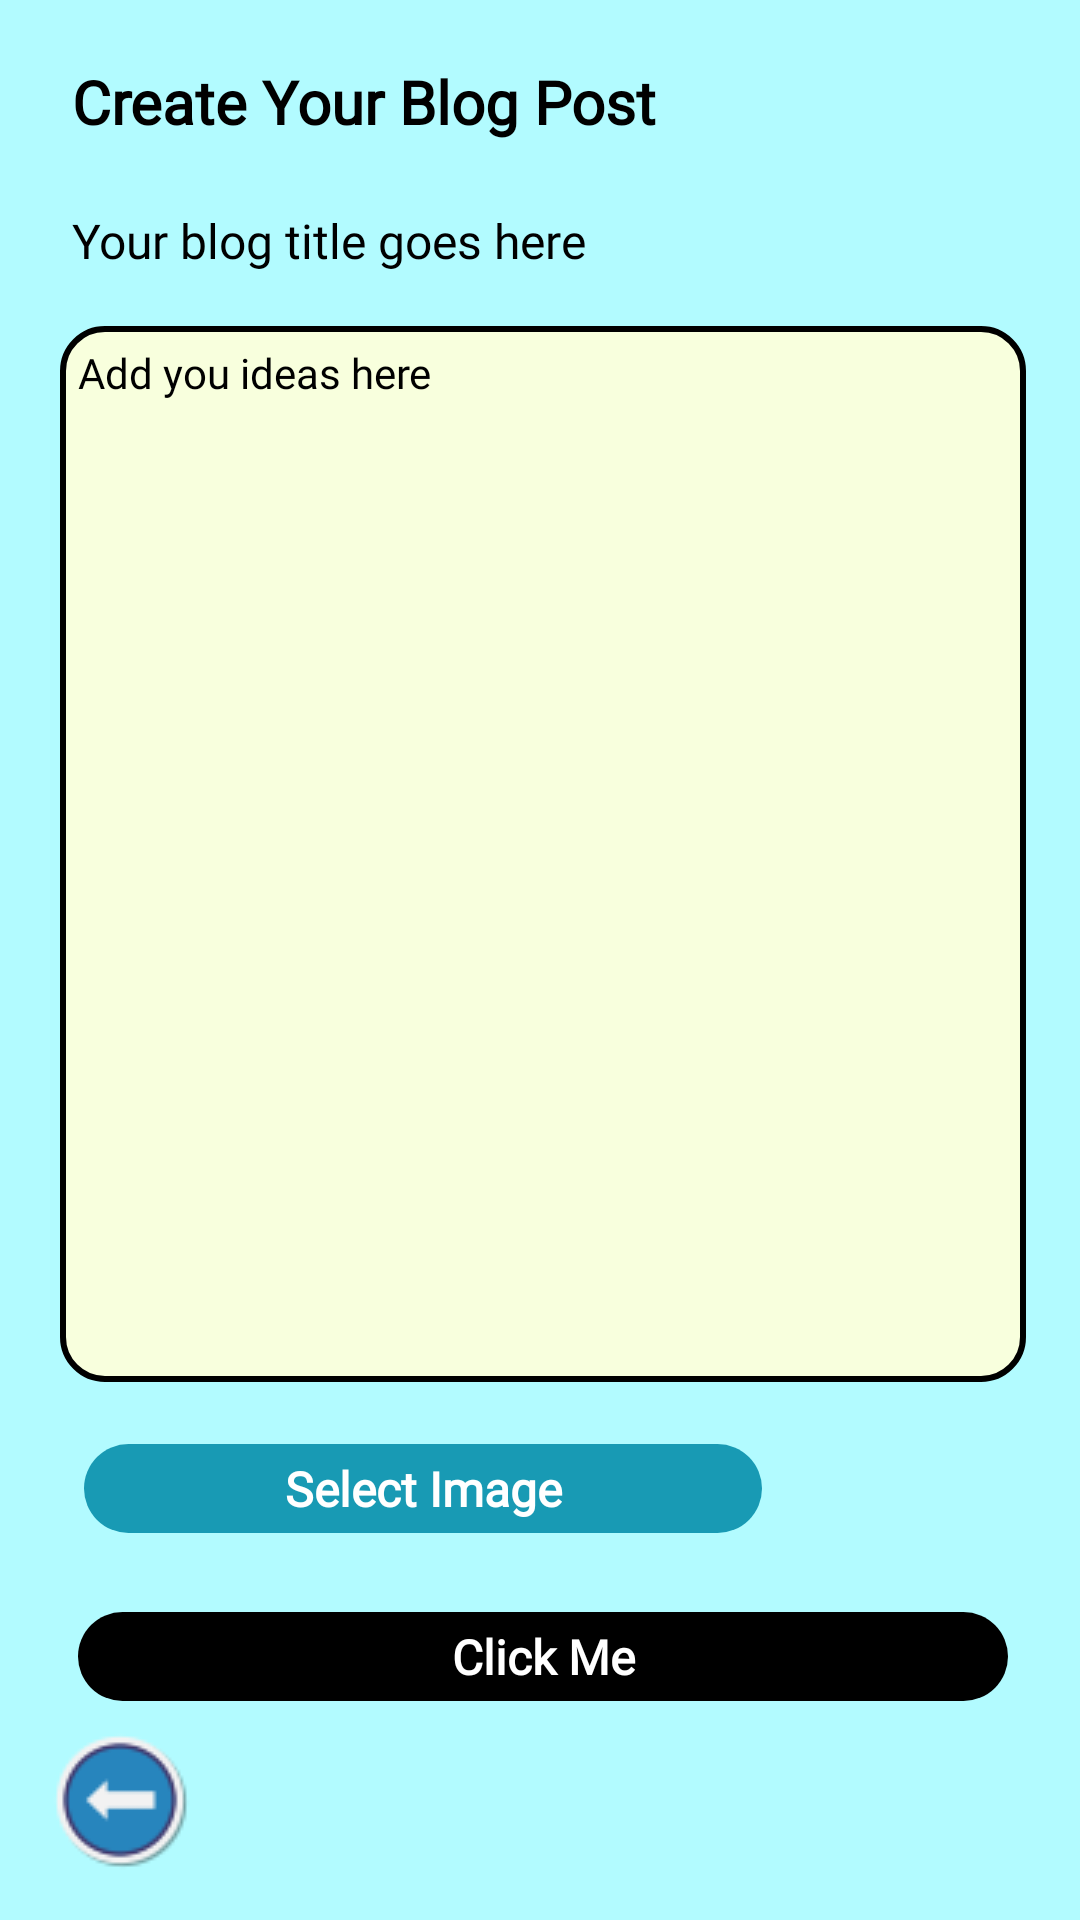

Icon bounding boxes for this 1080 × 1920 phone screenshot, format [left=x1, top=y1, right=x2, bottom=y2]:
back: [left=56, top=1736, right=187, bottom=1867]
